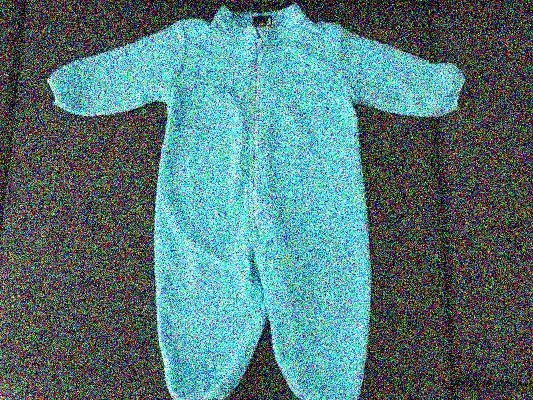Body: (30, 7, 480, 390)
